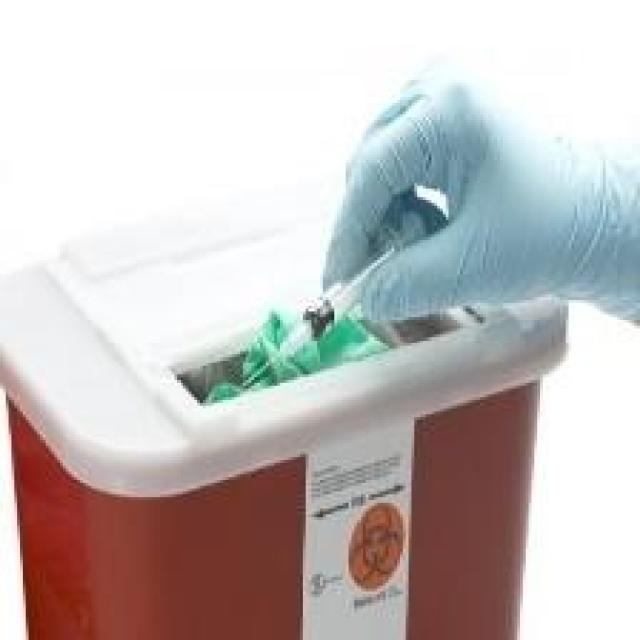syringe: (260, 212, 436, 400)
